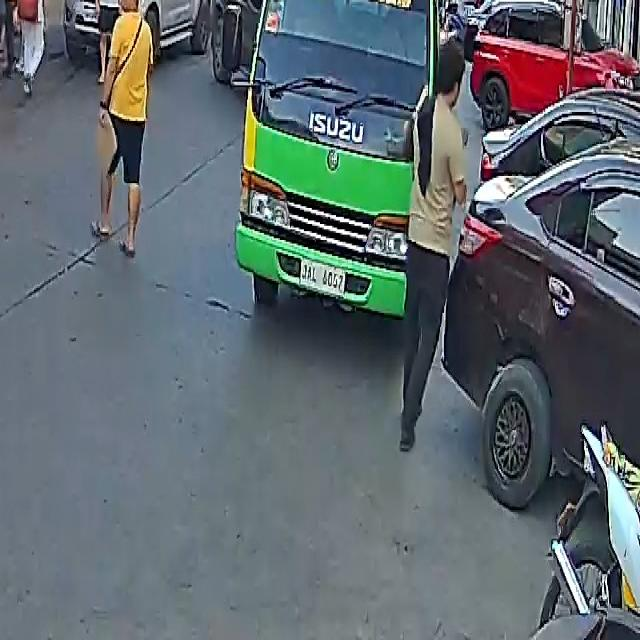car: (438, 78, 640, 520), (466, 0, 638, 132), (72, 0, 208, 62)
